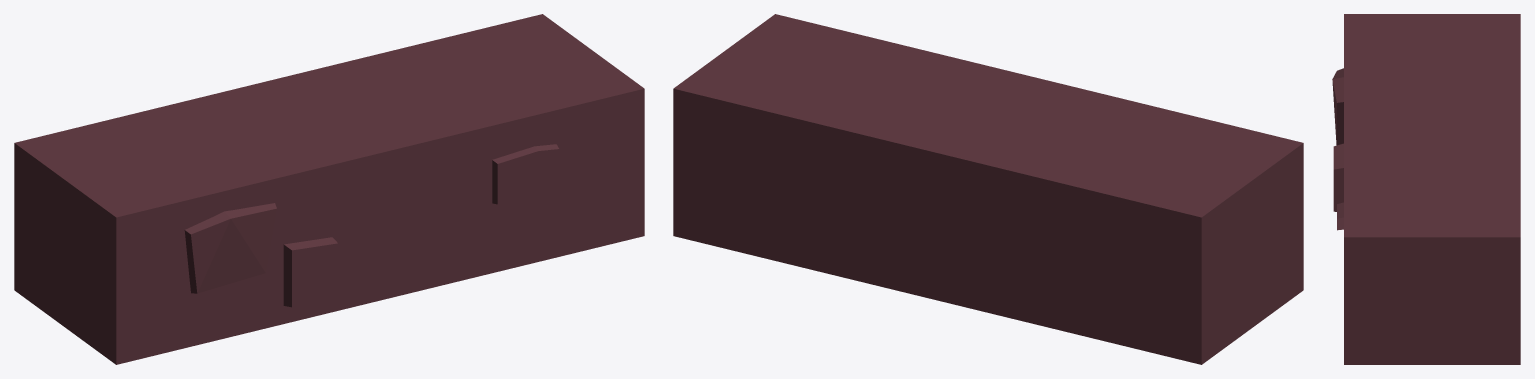
The model's file is empire-stairs-floor-1m-empire.glb.
3 views of the same model, side by side, from view 1: azimuth 30°, elevation 25°; view 2: azimuth 150°, elevation 25°; view 3: azimuth 270°, elevation 25° (orthographic). The views are drawn at different scales.
Visible parts, largest first — view 1: SM_Stairs_Floor_1m_Empire; view 2: SM_Stairs_Floor_1m_Empire; view 3: SM_Stairs_Floor_1m_Empire.
Part boxes in pixels (x1,y1,x2,y2): SM_Stairs_Floor_1m_Empire: [14, 14, 644, 364]; SM_Stairs_Floor_1m_Empire: [673, 14, 1303, 364]; SM_Stairs_Floor_1m_Empire: [1332, 14, 1520, 364].
Bounding box in the file's own units: 3 × 0.8 × 1.07.
